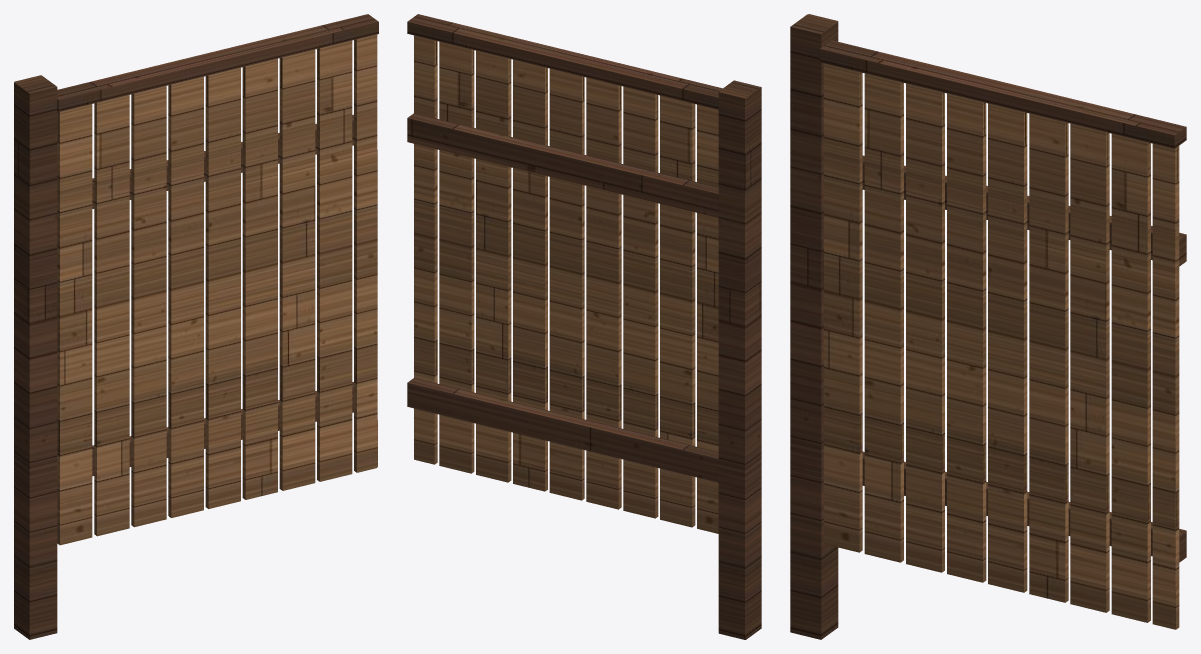
Rendered from fence_w15.glb.
3 views of the same model, side by side, from view 1: azimuth 30°, elevation 25°; view 2: azimuth 150°, elevation 25°; view 3: azimuth 330°, elevation 25° (orthographic). The views are drawn at different scales.
Parts seen in each view (by area): view 1: fence_w15_wood, fence_w15_dkwood; view 2: fence_w15_wood, fence_w15_dkwood; view 3: fence_w15_wood, fence_w15_dkwood.
Part boxes in pixels (x1,y1,x2,y2): fence_w15_wood: (57, 34, 377, 545); fence_w15_dkwood: (14, 14, 378, 639); fence_w15_wood: (414, 35, 718, 533); fence_w15_dkwood: (407, 14, 761, 639); fence_w15_wood: (823, 63, 1179, 629); fence_w15_dkwood: (790, 14, 1186, 639).
Size of the model in its own units: 1.5 by 2.25 by 0.13.
2 materials, 2 textured.
